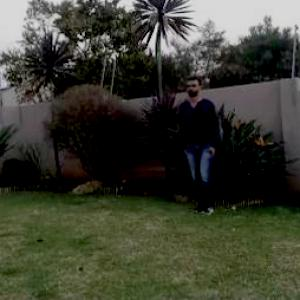follow: (179, 74, 221, 215)
